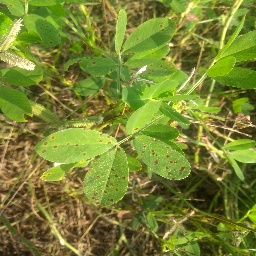GroundNut_Leaf: (86, 147, 136, 211), (33, 123, 117, 158), (139, 135, 195, 184), (122, 17, 183, 53), (125, 99, 179, 132), (23, 12, 64, 51), (222, 139, 255, 183), (1, 87, 30, 127), (59, 55, 117, 75), (205, 56, 244, 78), (1, 70, 49, 87), (175, 229, 197, 256)
